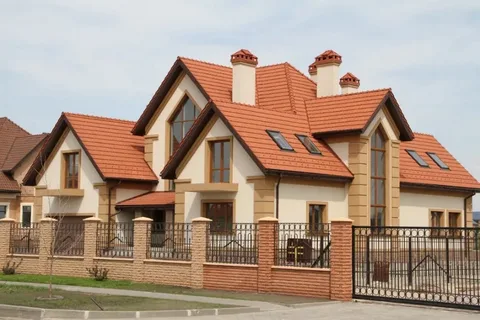private_hause: (39, 47, 408, 250)
